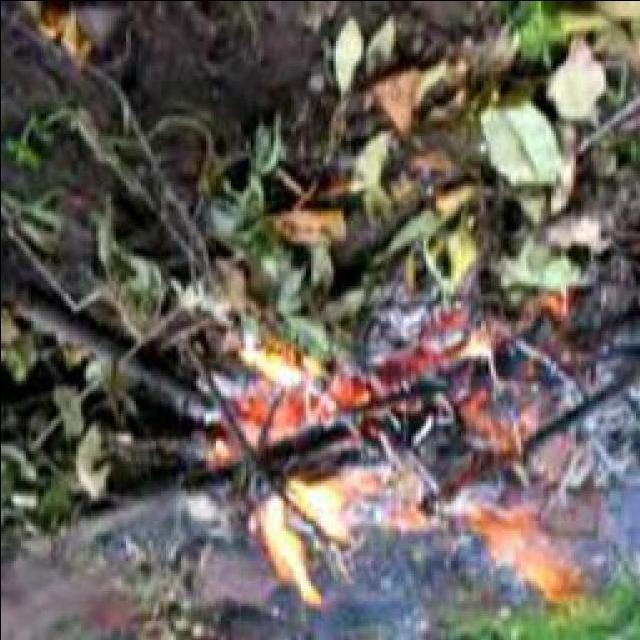Fire: (187, 332, 586, 608)
